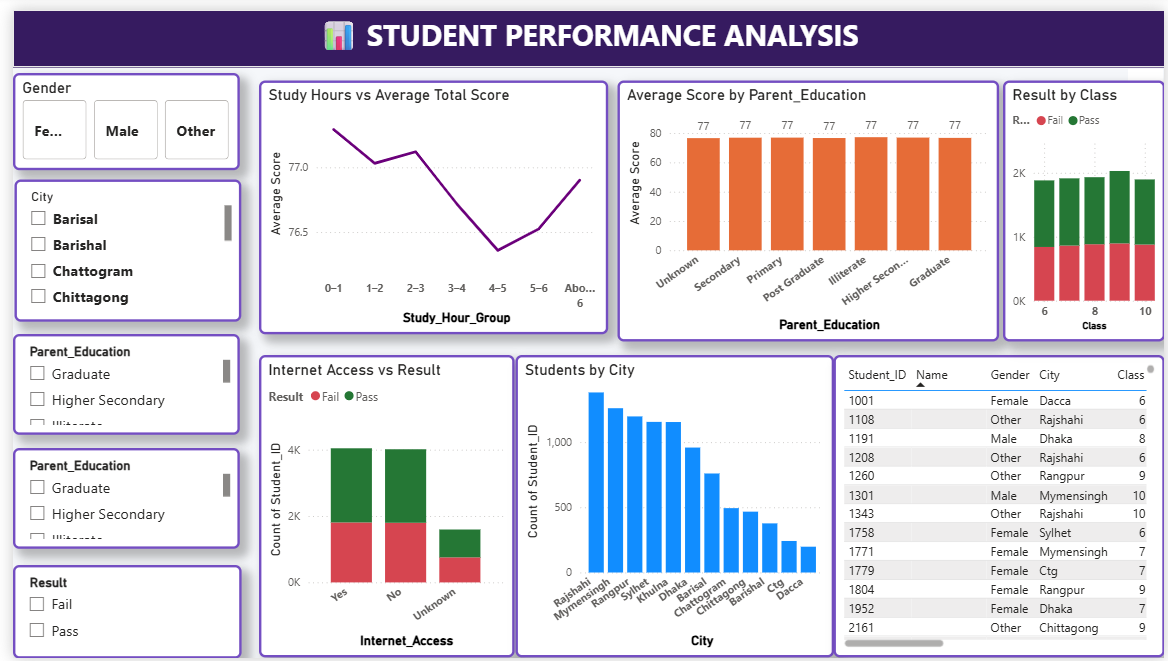

The dashboard page shown, as its layout file describes it:
{"tool":"powerbi","page":{"name":"Performance Analysis","canvas":[1280,720],"ordinal":1},"visuals":[{"type":"textbox","box":[0,0,1280,64],"z":0},{"type":"advancedSlicerVisual","fields":{"Values":["StudentData.Gender"]},"box":[0,69.3,252.3,107.8],"z":1000},{"type":"slicer","fields":{"Values":["StudentData.City"]},"box":[1.9,188.7,252.3,157.9],"z":2000},{"type":"slicer","fields":{"Values":["StudentData.Parent_Education"]},"box":[0,360,252,112],"z":3000},{"type":"slicer","fields":{"Values":["StudentData.Parent_Education"]},"box":[0,486,252,112],"z":4000},{"type":"slicer","fields":{"Values":["StudentData.Result"]},"box":[0,616,254,104],"z":5000},{"type":"lineChart","title":"Study Hours vs Average Total Score","fields":{"Y":["StudentData.Average Score"],"Category":["StudentData.Study_Hour_Group"]},"box":[274,78,388,282],"z":6000},{"type":"clusteredColumnChart","fields":{"Y":["StudentData.Average Score"],"Category":["StudentData.Parent_Education"]},"box":[672,78,424,290],"z":7000},{"type":"columnChart","title":"Internet Access vs Result","fields":{"Category":["StudentData.Internet_Access"],"Y":["CountNonNull(StudentData.Student_ID)"],"Series":["StudentData.Result"]},"box":[274,384,284,336],"z":8000},{"type":"clusteredColumnChart","title":"Students by City","fields":{"Category":["StudentData.City"],"Y":["CountNonNull(StudentData.Student_ID)"]},"box":[558,384,354,336],"z":9000},{"type":"tableEx","fields":{"Values":["StudentData.Student_ID","StudentData.Name","StudentData.Gender","StudentData.City","StudentData.Class","StudentData.Attendance_Percentage","StudentData.Study_Hours_per_day","StudentData.Math_Score","StudentData.English_Score","StudentData.Science_Score","Sum(StudentData.Total_Score)","StudentData.Result"]},"box":[912,384,368,336],"z":10000},{"type":"columnChart","title":"Result by Class","fields":{"Category":["StudentData.Class"],"Y":["CountNonNull(StudentData.Student_ID)"],"Series":["StudentData.Result"]},"box":[1100,78,180,290],"z":11000}]}

Visuals, with their boxes in screenshot pixels (x1, y1, x2, y2), scaled from the page's 1280x720 canvas onto the 1168x661 screenshot:
textbox: (x1=0, y1=0, x2=1167, y2=59)
advancedSlicerVisual - StudentData.Gender: (x1=0, y1=64, x2=230, y2=163)
slicer - StudentData.City: (x1=2, y1=173, x2=232, y2=318)
slicer - StudentData.Parent_Education: (x1=0, y1=330, x2=230, y2=433)
slicer - StudentData.Parent_Education: (x1=0, y1=446, x2=230, y2=549)
slicer - StudentData.Result: (x1=0, y1=566, x2=232, y2=660)
"Study Hours vs Average Total Score" lineChart: (x1=250, y1=72, x2=604, y2=330)
clusteredColumnChart - StudentData.Average Score x StudentData.Parent_Education: (x1=613, y1=72, x2=1000, y2=338)
"Internet Access vs Result" columnChart: (x1=250, y1=353, x2=509, y2=660)
"Students by City" clusteredColumnChart: (x1=509, y1=353, x2=832, y2=660)
tableEx - StudentData.Student_ID x StudentData.Name: (x1=832, y1=353, x2=1167, y2=660)
"Result by Class" columnChart: (x1=1004, y1=72, x2=1167, y2=338)
